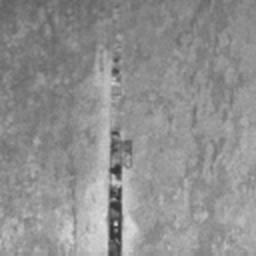Slag inclusion: (106, 125, 133, 256), (111, 51, 122, 82)
